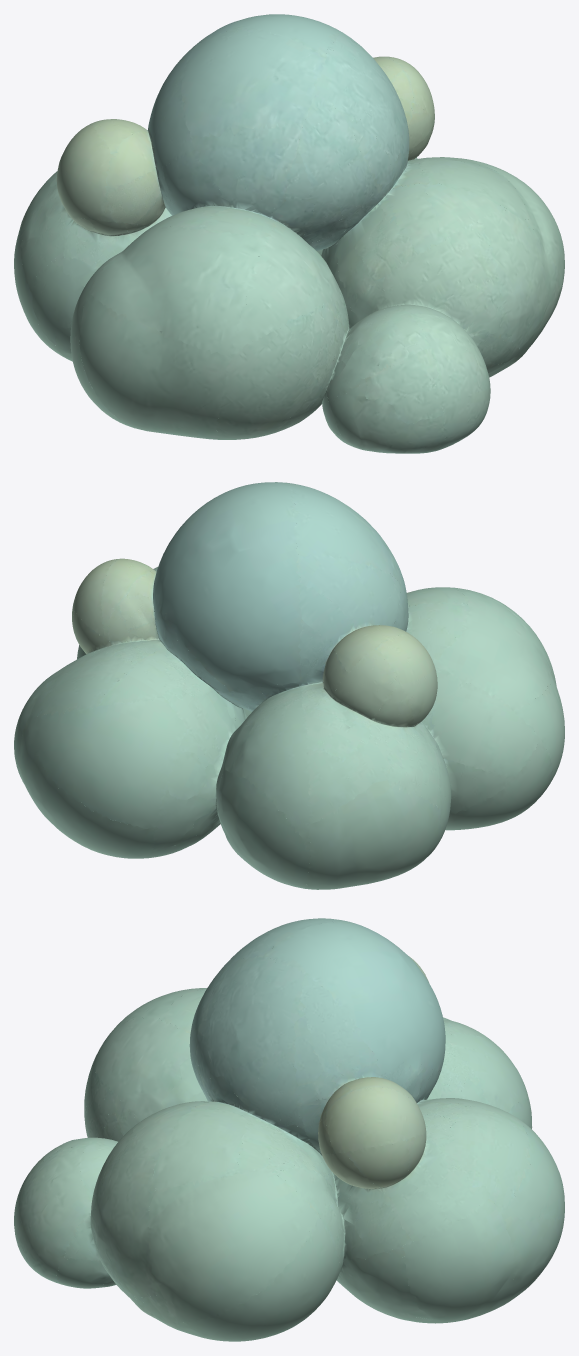
File: bush-low.glb
The picture shows the model from 3 angles, top to bottom: view 1: azimuth 30°, elevation 25°; view 2: azimuth 150°, elevation 25°; view 3: azimuth 270°, elevation 25°; orthographic projection. The views are drawn at different scales.
Visible parts, largest first — view 1: Mesh_0.004; view 2: Mesh_0.004; view 3: Mesh_0.004.
Boxes of the visible parts, x1,y1,x2,y2 form: Mesh_0.004: (14, 14, 564, 453); Mesh_0.004: (14, 482, 564, 889); Mesh_0.004: (14, 918, 564, 1341).
Size of the model in its own units: 1.88 by 1.24 by 1.9.
1 material, 1 textured.
